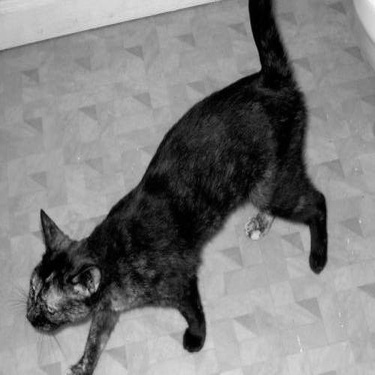cat: (1, 1, 353, 370)
